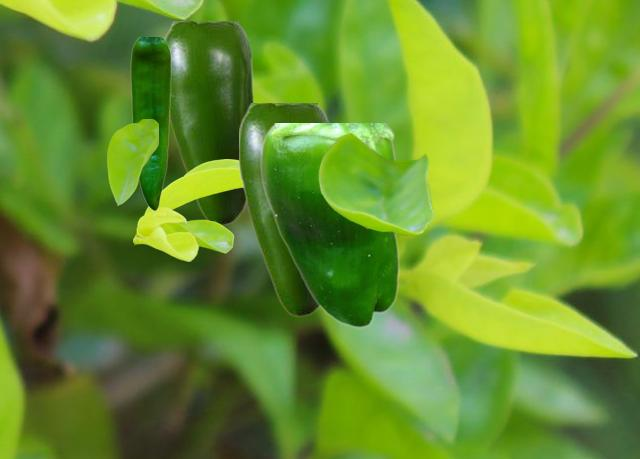green_chili: (259, 123, 398, 327), (239, 103, 331, 316), (164, 21, 253, 225), (130, 37, 170, 209)
